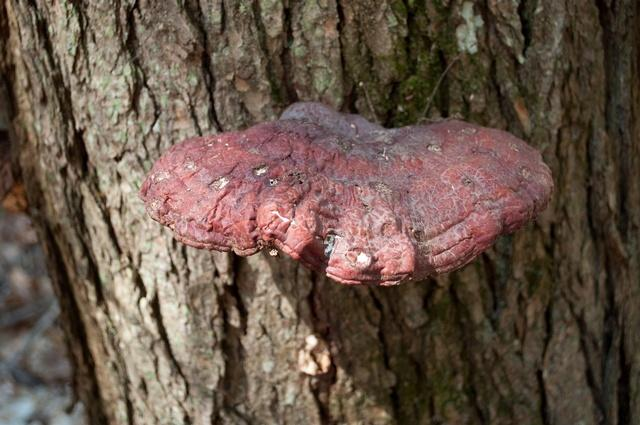Non-edible Mushroom: (137, 99, 554, 288)
